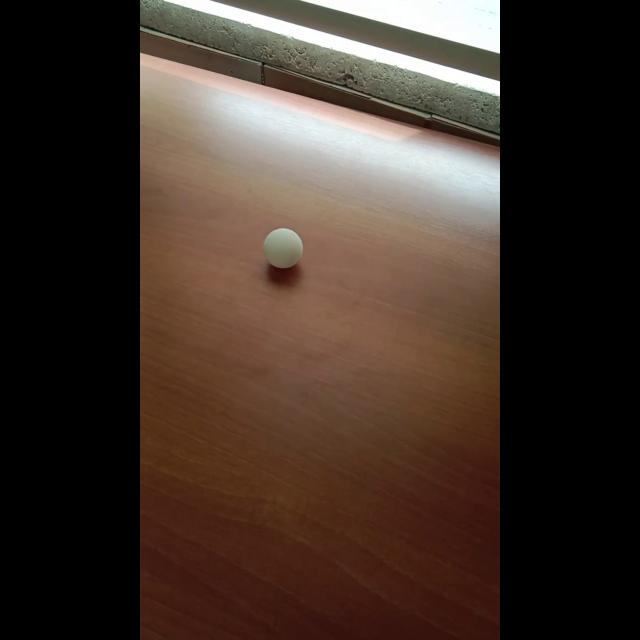white ball: (263, 227, 303, 269)
